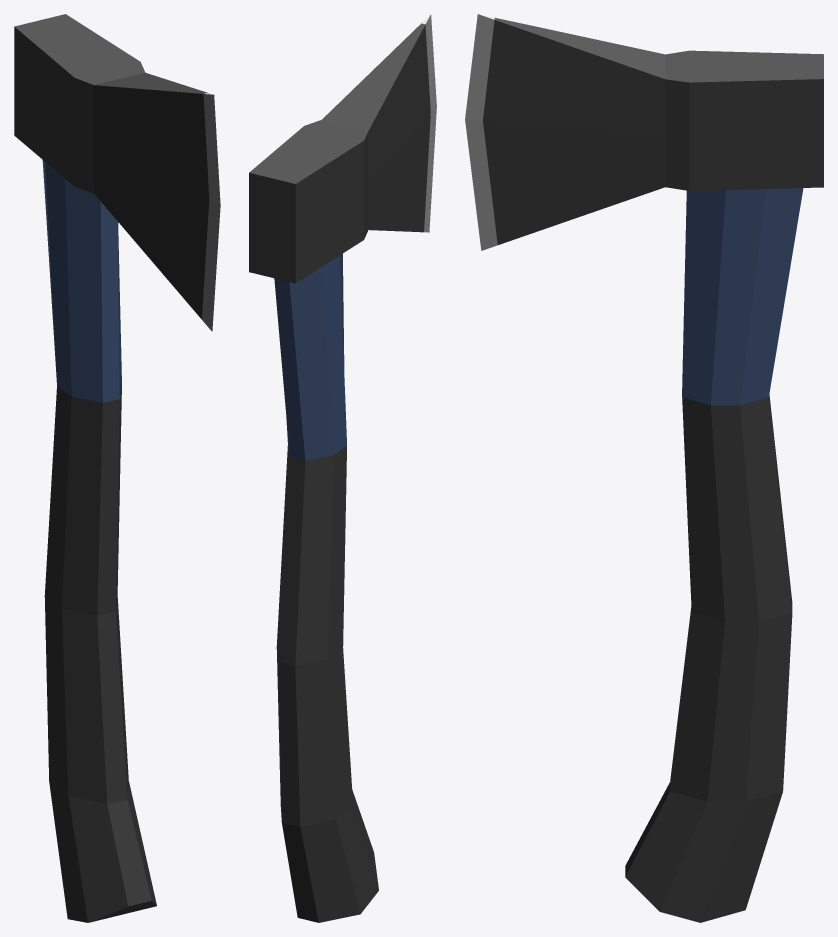
File: axe_2.fbx
3 views of the same model, side by side, from view 1: azimuth 30°, elevation 25°; view 2: azimuth 150°, elevation 25°; view 3: azimuth 270°, elevation 25° (orthographic). The views are drawn at different scales.
Parts seen in each view (by area): view 1: axe_2; view 2: axe_2; view 3: axe_2.
Part boxes in pixels (bbox=[...]): axe_2: bbox=[14, 14, 220, 922]; axe_2: bbox=[249, 14, 436, 922]; axe_2: bbox=[465, 14, 823, 922].
Size of the model in its own units: 6.55 by 81.46 by 29.7.
Materials: 1 (1 with a texture image).
